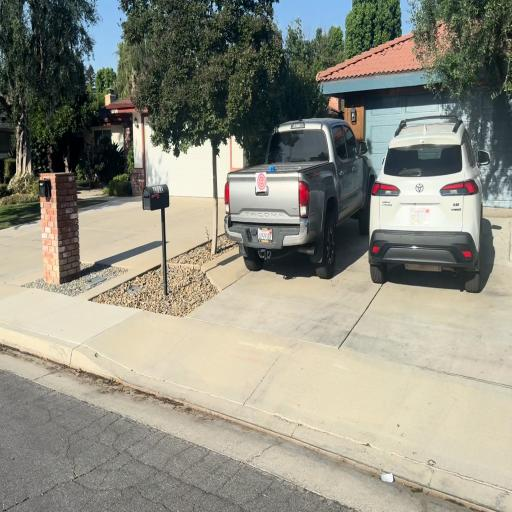bullseye: (257, 172, 267, 192)
